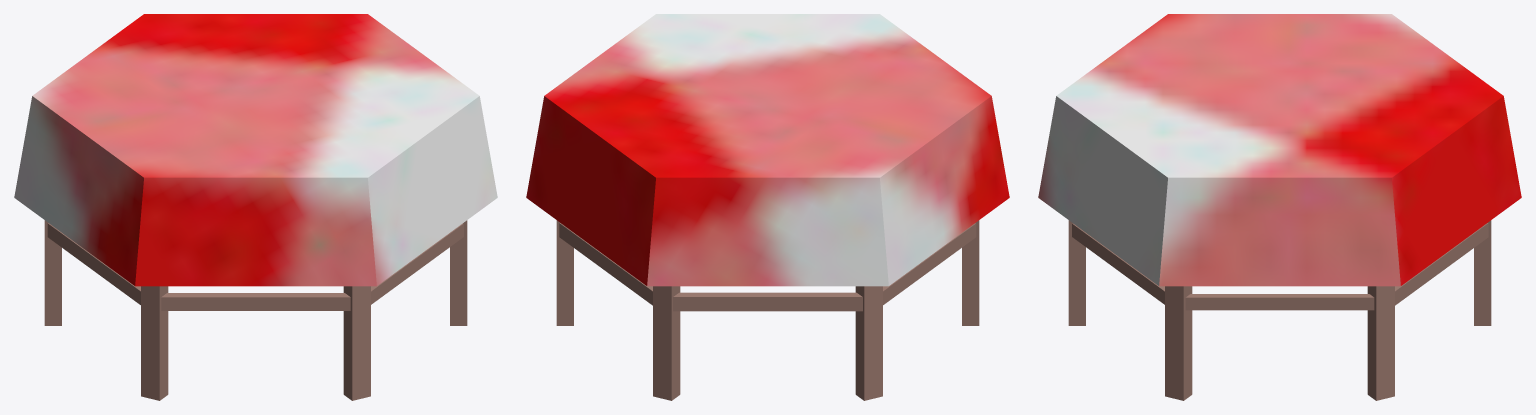
File: TABLE.fbx
The picture shows the model from 3 angles, left to right: view 1: azimuth 30°, elevation 25°; view 2: azimuth 150°, elevation 25°; view 3: azimuth 270°, elevation 25°; orthographic projection.
Parts seen in each view (by area): view 1: Circle.004; view 2: Circle.004; view 3: Circle.004.
Boxes of the visible parts, x1=… form: Circle.004: x1=14, y1=14, x2=497, y2=400; Circle.004: x1=526, y1=14, x2=1009, y2=400; Circle.004: x1=1038, y1=14, x2=1521, y2=400.
Size of the model in its own units: 6.89 by 4.09 by 7.95.
